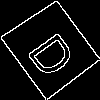D: (25, 24, 85, 81)
